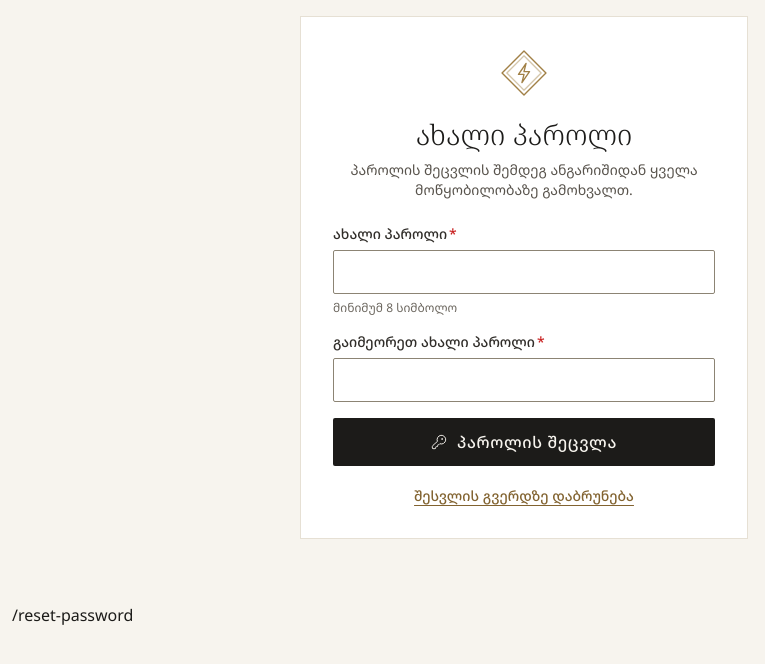
Test case: the reset page › sends nothing when the two passwords differ
Type "brand-new-pass-7" into the password field labelled "ახალი პაროლი*" at [524, 272], box [333,250,715,294]
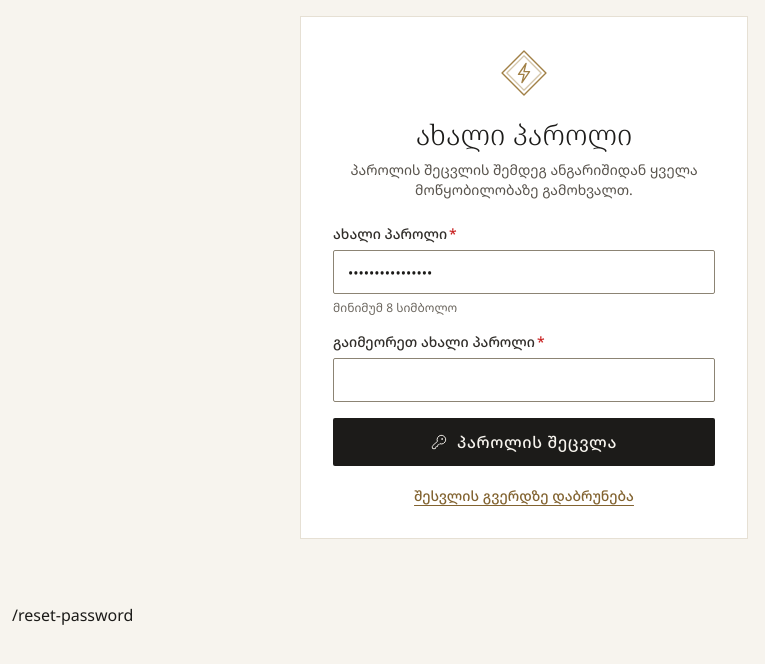
Type "brand-new-pass-8" into the password field labelled "გაიმეორეთ ახალი პაროლი*" at [524, 380], box [333,358,715,402]
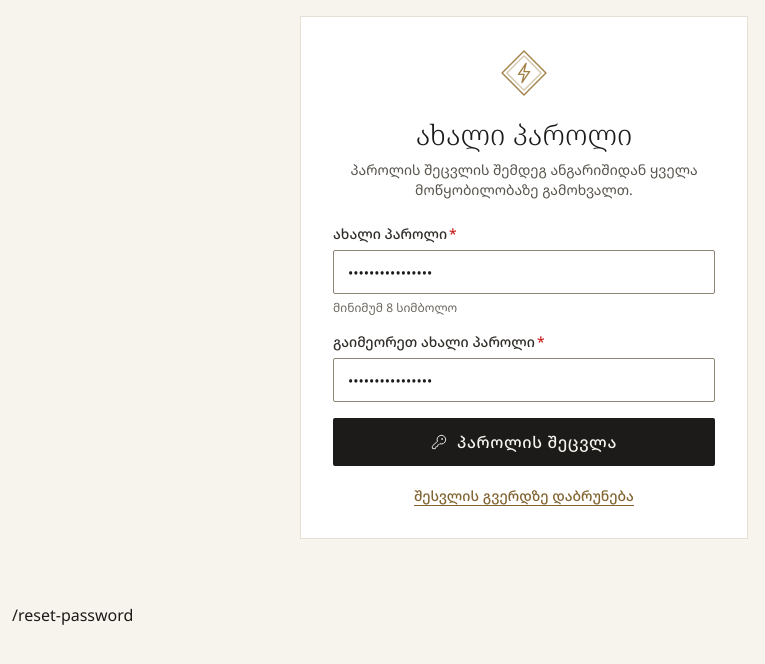
Click the button "პაროლის შეცვლა" at [524, 442], box [333,418,715,466]
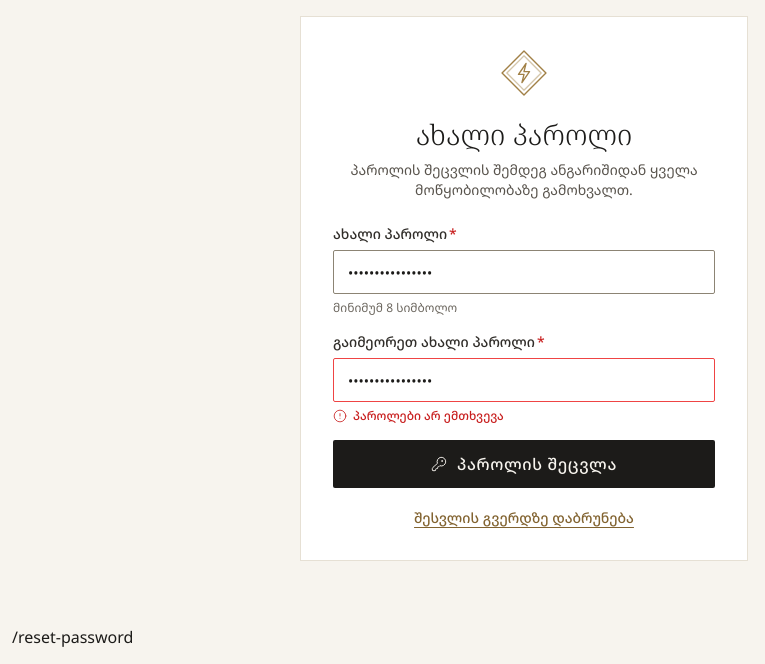
Now the text "პაროლები არ ემთხვევა" is shown, box [333,407,504,424]
